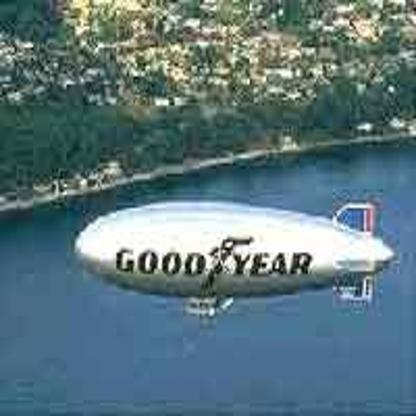Airship: (67, 194, 400, 325)
